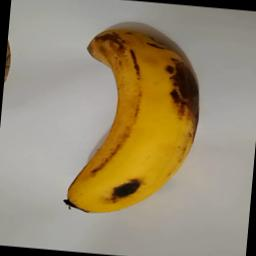Banana Unripe: (62, 20, 210, 224)
